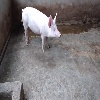heo: (20, 5, 63, 53)
